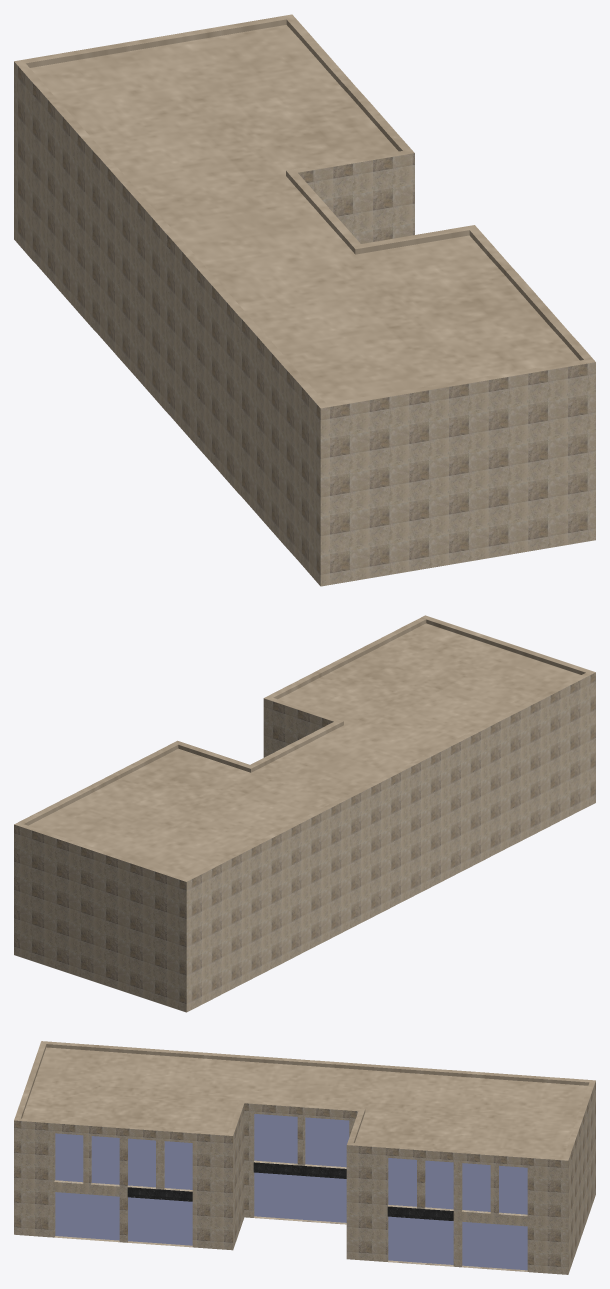
3 renders of one model, top to bottom at view 1: azimuth 30°, elevation 25°; view 2: azimuth 150°, elevation 25°; view 3: azimuth 270°, elevation 25°, orthographic. The views are drawn at different scales.
Parts seen in each view (by area): view 1: Cube.004; view 2: Cube.004; view 3: Cube.004.
Boxes of the visible parts, x1,y1,x2,y2 form: Cube.004: (14,14,595,586); Cube.004: (14,615,595,1012); Cube.004: (14,1041,595,1274).
Size of the model in its own units: 21.6 by 9.61 by 44.38.
Materials: 4 (3 with a texture image).
